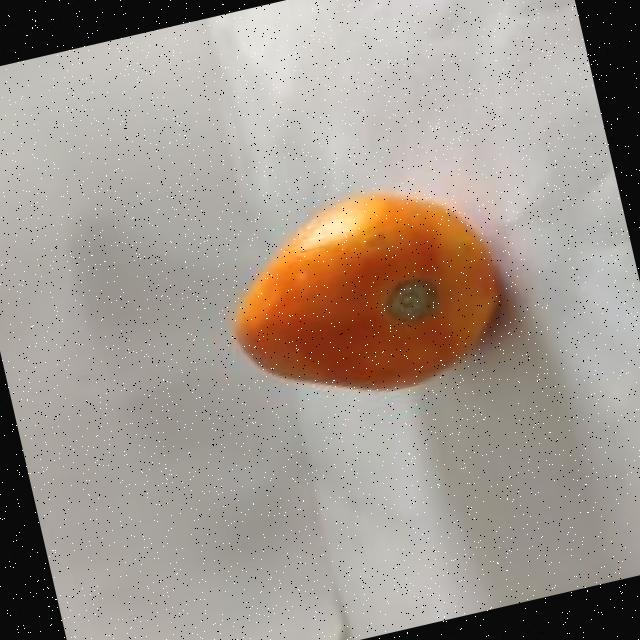Ripe: (202, 158, 516, 424)
